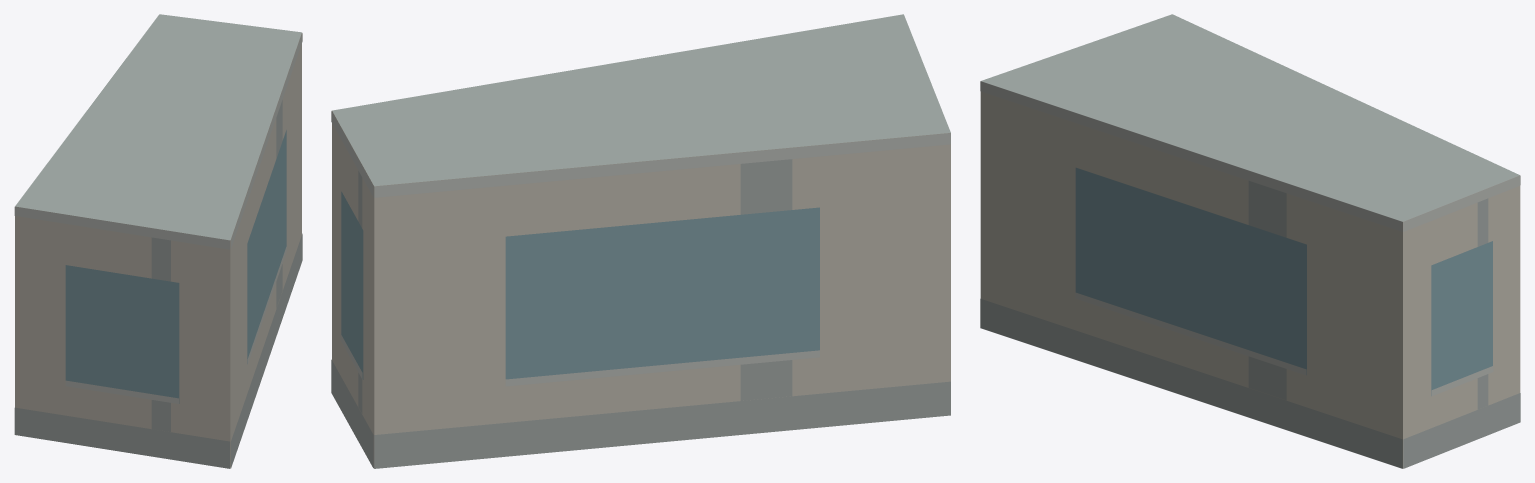
File: residential-bc46904f-0b8f-4771-aab8-c25cf37320a6.glb
3 views of the same model, side by side, from view 1: azimuth 30°, elevation 25°; view 2: azimuth 150°, elevation 25°; view 3: azimuth 270°, elevation 25° (orthographic). The views are drawn at different scales.
Parts seen in each view (by area): view 1: residential-bc46904f-0b8f-4771-aab8-c25cf37320a6.tmp; view 2: residential-bc46904f-0b8f-4771-aab8-c25cf37320a6.tmp; view 3: residential-bc46904f-0b8f-4771-aab8-c25cf37320a6.tmp.
Part boxes in pixels (<box>): residential-bc46904f-0b8f-4771-aab8-c25cf37320a6.tmp: <box>14,14,302,468</box>; residential-bc46904f-0b8f-4771-aab8-c25cf37320a6.tmp: <box>331,14,950,468</box>; residential-bc46904f-0b8f-4771-aab8-c25cf37320a6.tmp: <box>980,14,1520,468</box>.
Bounding box in the file's own units: 5.51 × 3.05 × 6.05.
